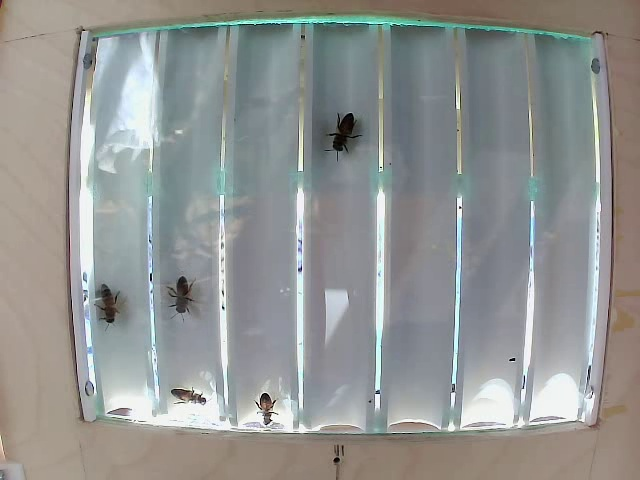bee: (174, 269, 204, 317), (95, 278, 124, 322), (327, 107, 357, 146)
